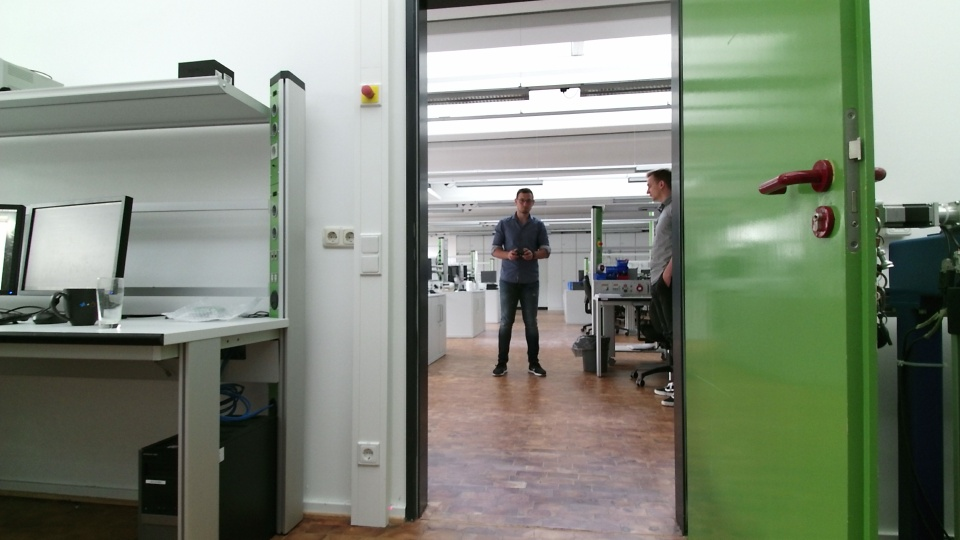Person: (490, 184, 551, 386), (639, 169, 679, 412)
